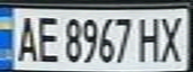6: (97, 15, 118, 64)
7: (112, 15, 136, 63)
8: (60, 14, 84, 63)
9: (78, 15, 100, 64)
A: (9, 11, 39, 63)
E: (33, 12, 63, 64)
H: (136, 14, 166, 63)
X: (154, 12, 190, 63)
